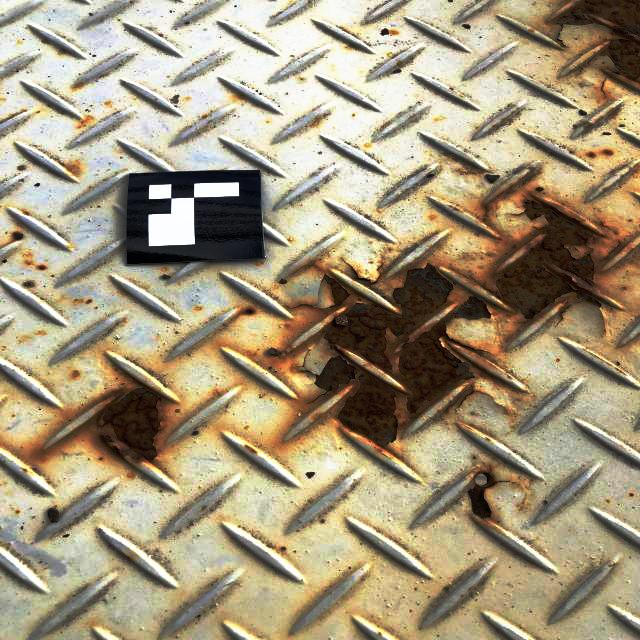Corrosion: (270, 165, 636, 462), (32, 364, 168, 467), (545, 0, 640, 101), (466, 465, 512, 522), (584, 350, 628, 376), (446, 154, 484, 174), (77, 115, 93, 129), (67, 162, 82, 175), (9, 232, 24, 245), (244, 443, 258, 454), (580, 120, 594, 131), (242, 308, 256, 315), (608, 107, 617, 117), (72, 369, 80, 378), (75, 82, 85, 89), (604, 149, 613, 156), (20, 211, 30, 217), (595, 116, 603, 123), (58, 48, 67, 54), (588, 151, 595, 158), (38, 265, 47, 270), (390, 30, 398, 35), (85, 299, 93, 304), (238, 94, 245, 99), (297, 528, 302, 532)
